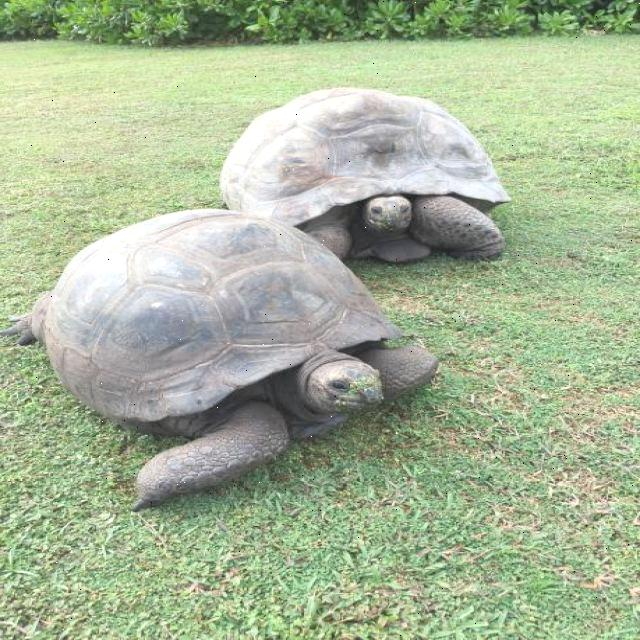tortoise: (27, 204, 445, 516), (207, 90, 521, 272)
